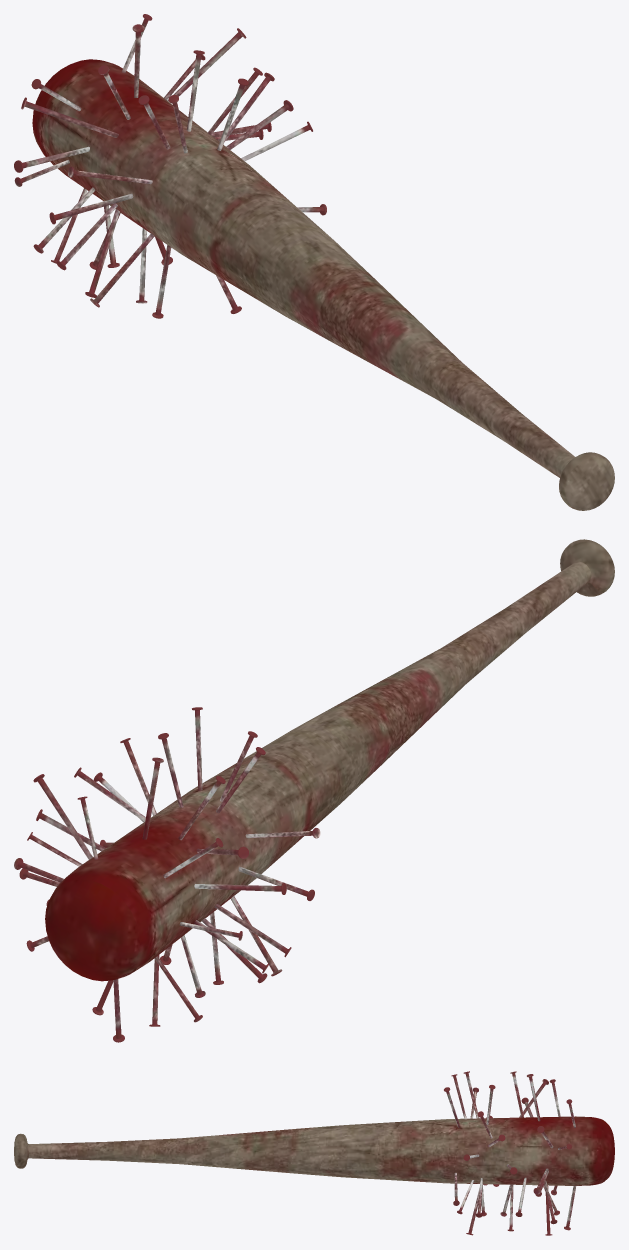
The model's file is tool-nailBat.glb.
3 renders of one model, top to bottom at view 1: azimuth 30°, elevation 25°; view 2: azimuth 150°, elevation 25°; view 3: azimuth 270°, elevation 25°, orthographic. The views are drawn at different scales.
Parts seen in each view (by area): view 1: bat_low, nail_low; view 2: bat_low, nail_low; view 3: bat_low, nail_low.
Boxes of the visible parts, x1=… form: bat_low: x1=32, y1=59, x2=614, y2=510; nail_low: x1=14, y1=14, x2=326, y2=318; bat_low: x1=45, y1=539, x2=614, y2=981; nail_low: x1=14, y1=707, x2=320, y2=1042; bat_low: x1=14, y1=1116, x2=614, y2=1185; nail_low: x1=444, y1=1071, x2=576, y2=1235.
Bounding box in the file's own units: 7.22 × 6.94 × 24.75.
Materials: 1 (1 with a texture image).
